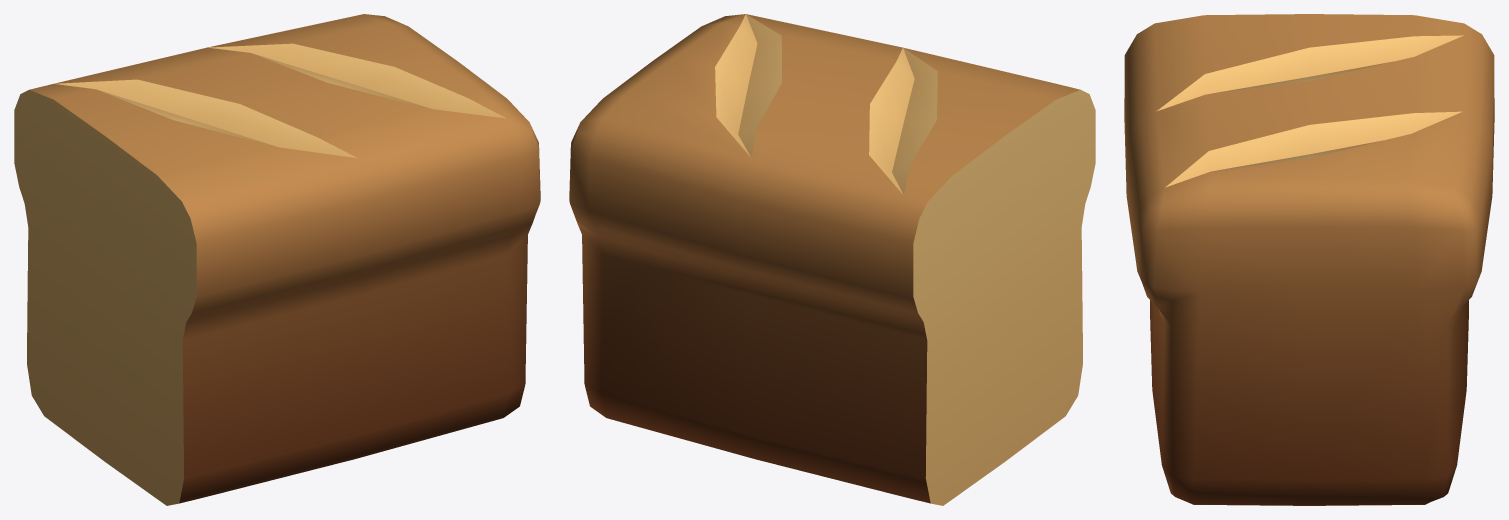
The model's file is Loaf_Half_01.glb.
The picture shows the model from 3 angles, left to right: view 1: azimuth 30°, elevation 25°; view 2: azimuth 150°, elevation 25°; view 3: azimuth 270°, elevation 25°; orthographic projection.
Visible parts, largest first — view 1: Loaf_Half_01; view 2: Loaf_Half_01; view 3: Loaf_Half_01.
Boxes of the visible parts, left/top/right/bottom form: Loaf_Half_01: left=14, top=14, right=540, bottom=505; Loaf_Half_01: left=569, top=14, right=1095, bottom=505; Loaf_Half_01: left=1124, top=14, right=1494, bottom=505.
Size of the model in its own units: 0.4149 by 0.3586 by 0.3641.
1 material, 1 textured.
